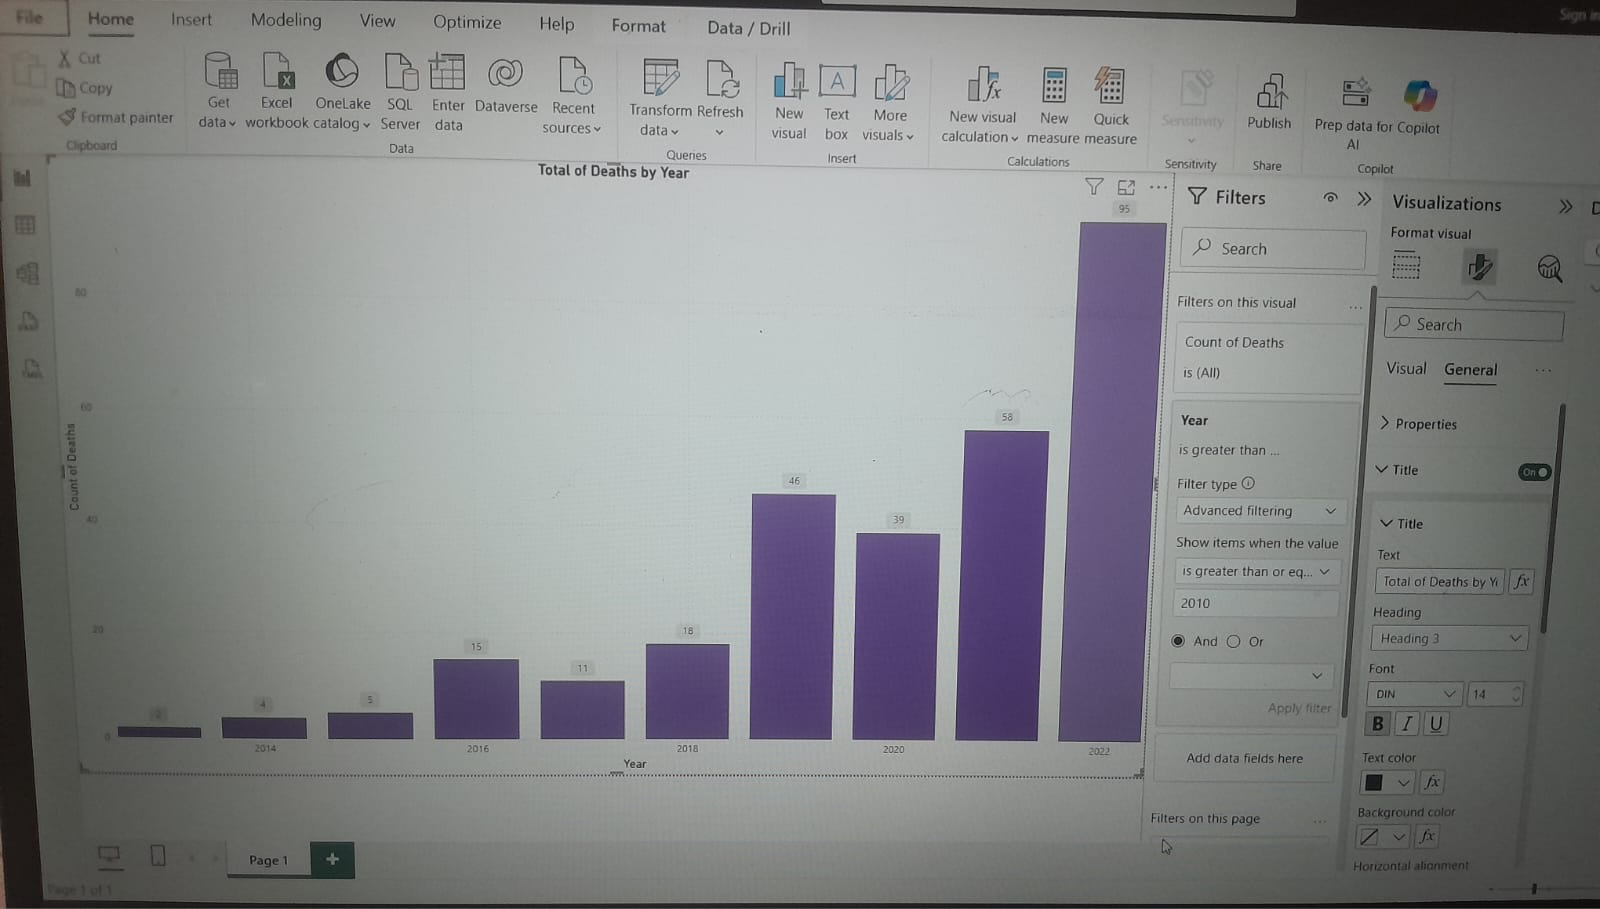

The page's visual inventory and layout, read from the dashboard file:
{"tool":"powerbi","page":{"name":"Page 1","canvas":[1280,720],"ordinal":0},"visuals":[{"type":"columnChart","title":"Total of Deaths by Year","fields":{"Category":["tesla_accidents_bd accidents_data.Year"],"Y":["CountNonNull(tesla_accidents_bd accidents_data.Deaths)"]},"box":[0,0,1280.3,720.2],"z":0}]}

Visuals, with their boxes on the page's 1280x720 design canvas (x1, y1, x2, y2). These are canvas units, not pixel positions in the 1600x909 screenshot, which may show the page scaled, cropped or inside an application window:
"Total of Deaths by Year" columnChart: detection(0, 0, 1280, 720)
